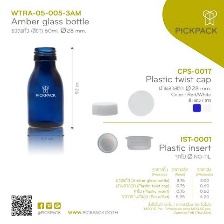bottle: (24, 39, 67, 132)
